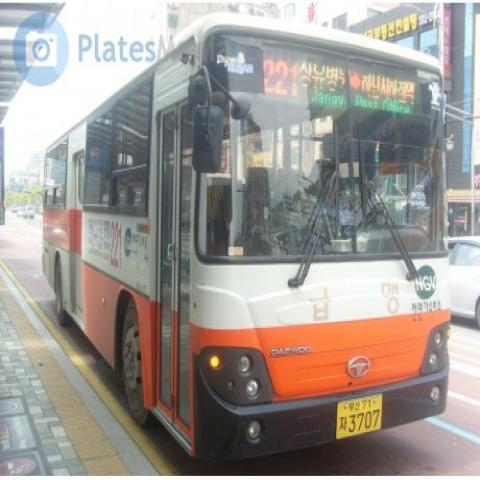LP: (332, 393, 388, 440)
